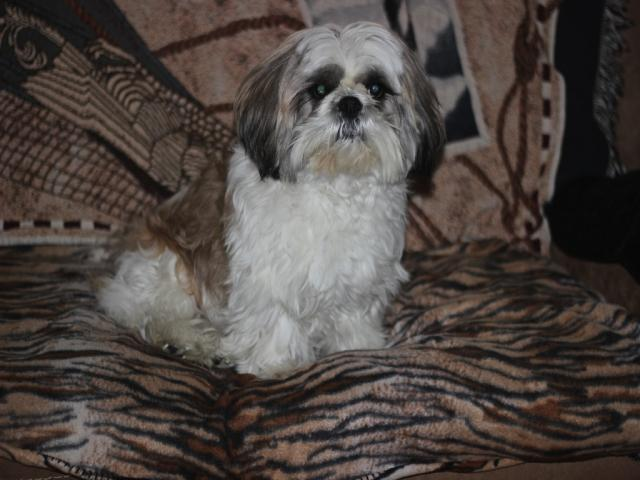Dog: (85, 22, 449, 378)
